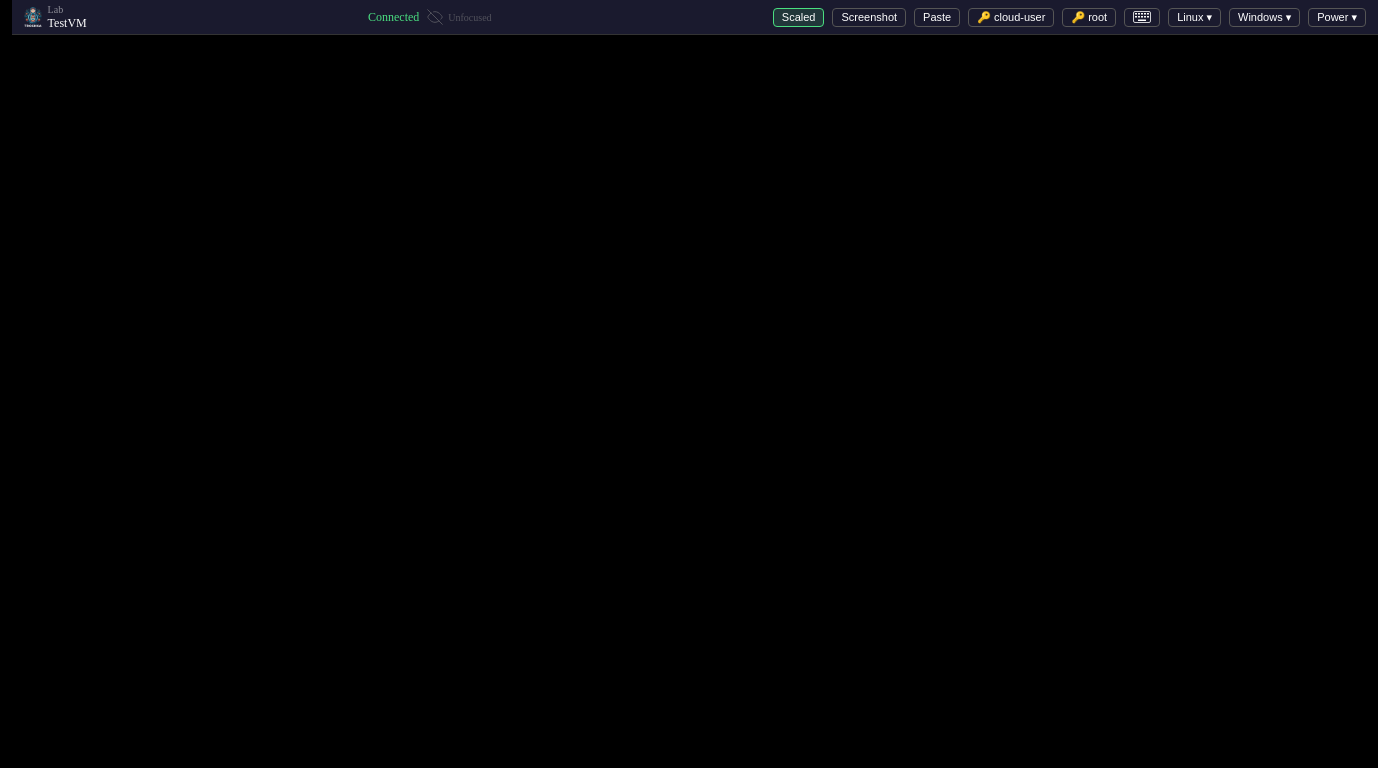
console controls › types a configured password and prevents duplicate rapid sends
Click the button "🔑 cloud-user".
click(1011, 17)  # box [968,8,1054,27]
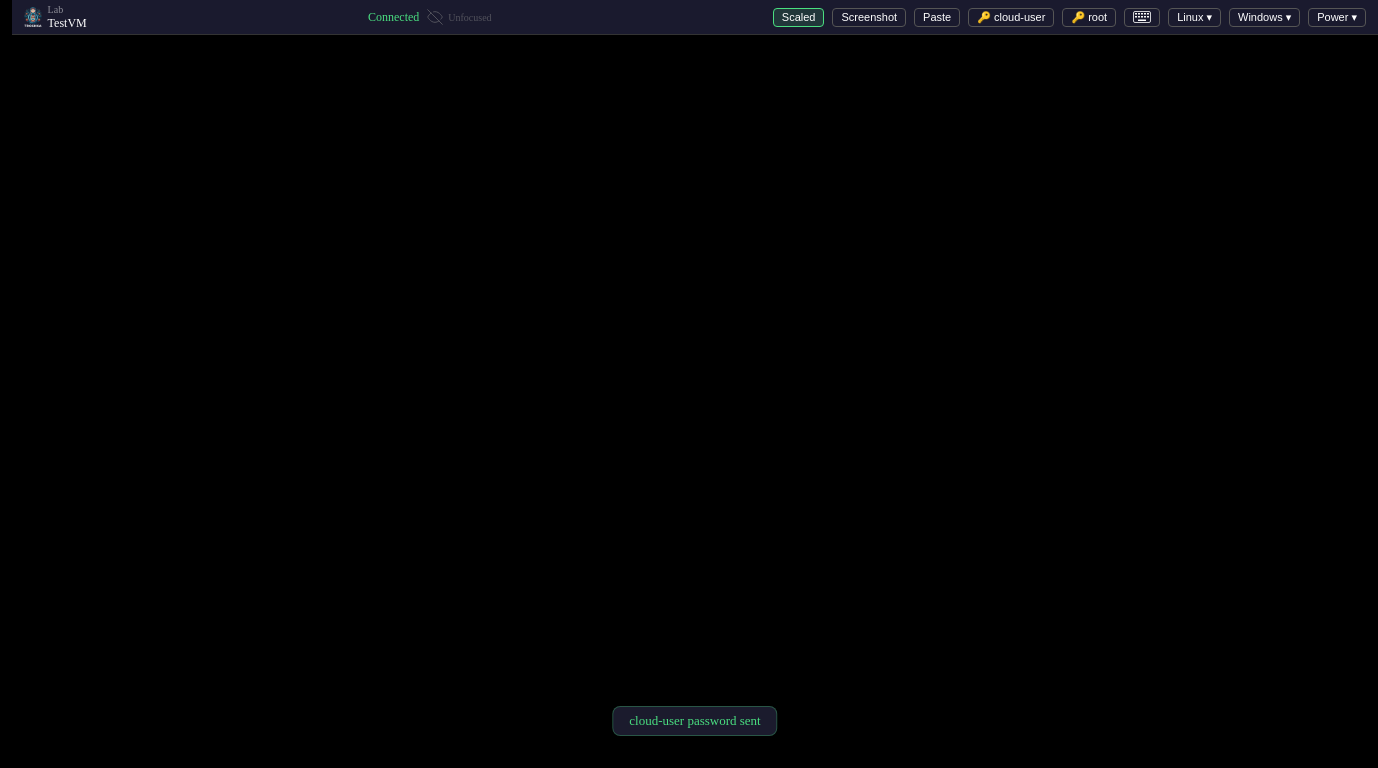
Expected: the text "cloud-user password sent" is shown, [612,706,778,736]
Click the button "🔑 cloud-user".
click(1011, 17)  # box [968,8,1054,27]
Wait 2000 ms
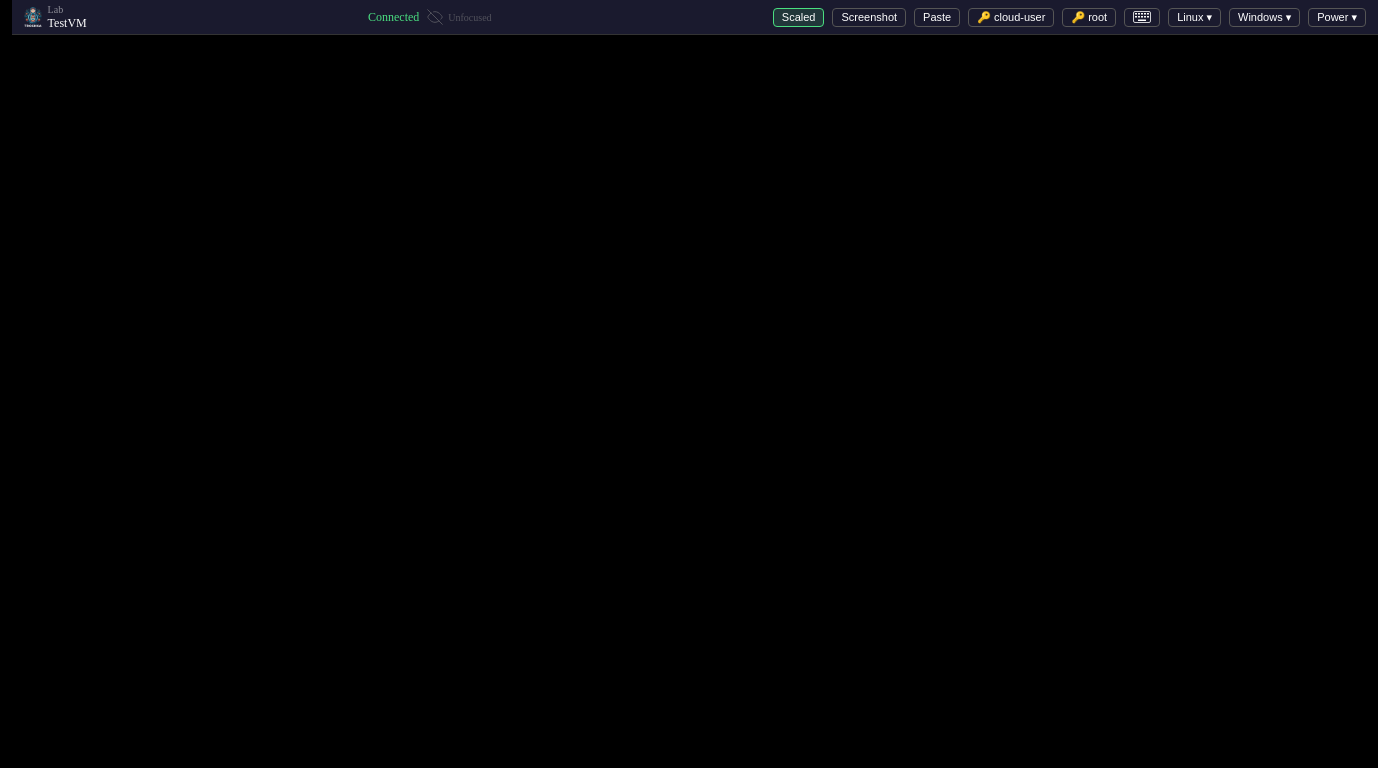
Expected: the text "cloud-user password sent" is gone
